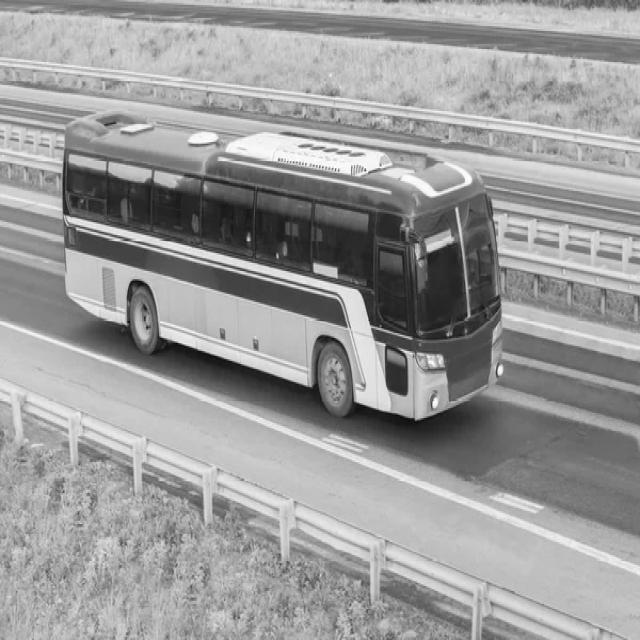Bus: (59, 108, 501, 420)
